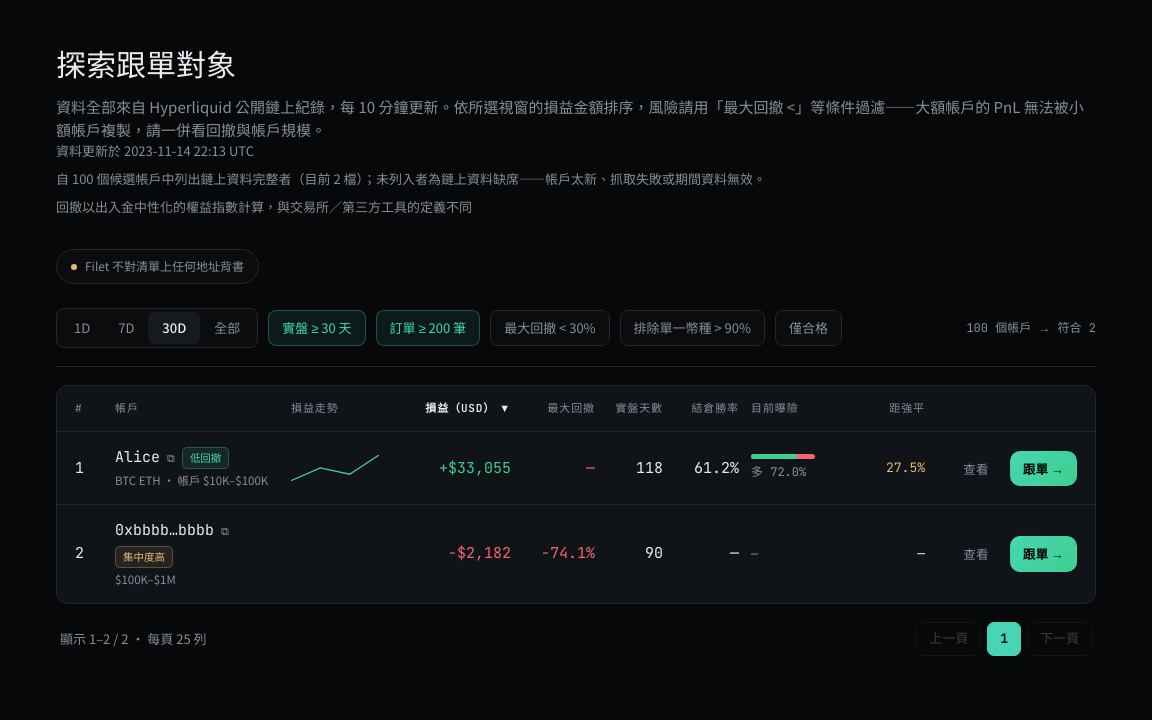
Test: ExplorePage — Task 12 表頭排序（D13） › 點「最大回撤」表頭兩次：第一次 sort=max_dd&order=desc&page=1，第二次 order=asc
Expected: the link "Alice" is shown, [115,446,160,470]
Click the button "最大回撤".
click(571, 409)  # box [548,400,595,417]
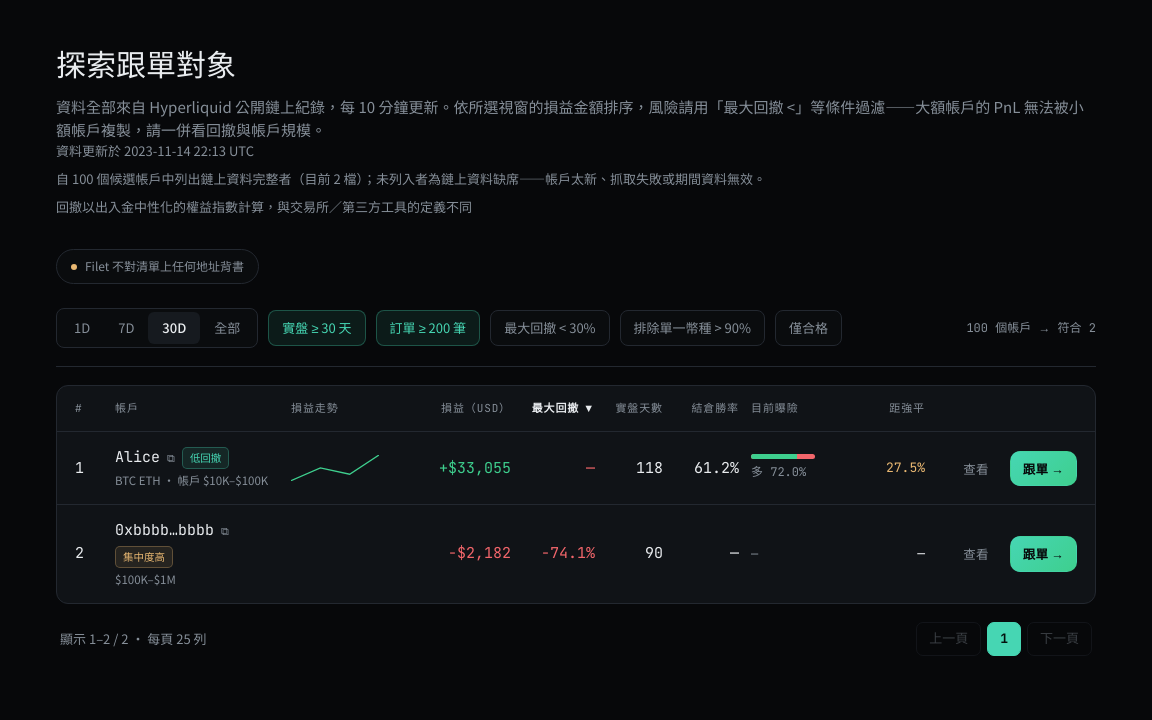
Expected: the button "最大回撤 ▼" is shown
Click the button "最大回撤 ▼".
click(563, 409)  # box [532,400,595,417]
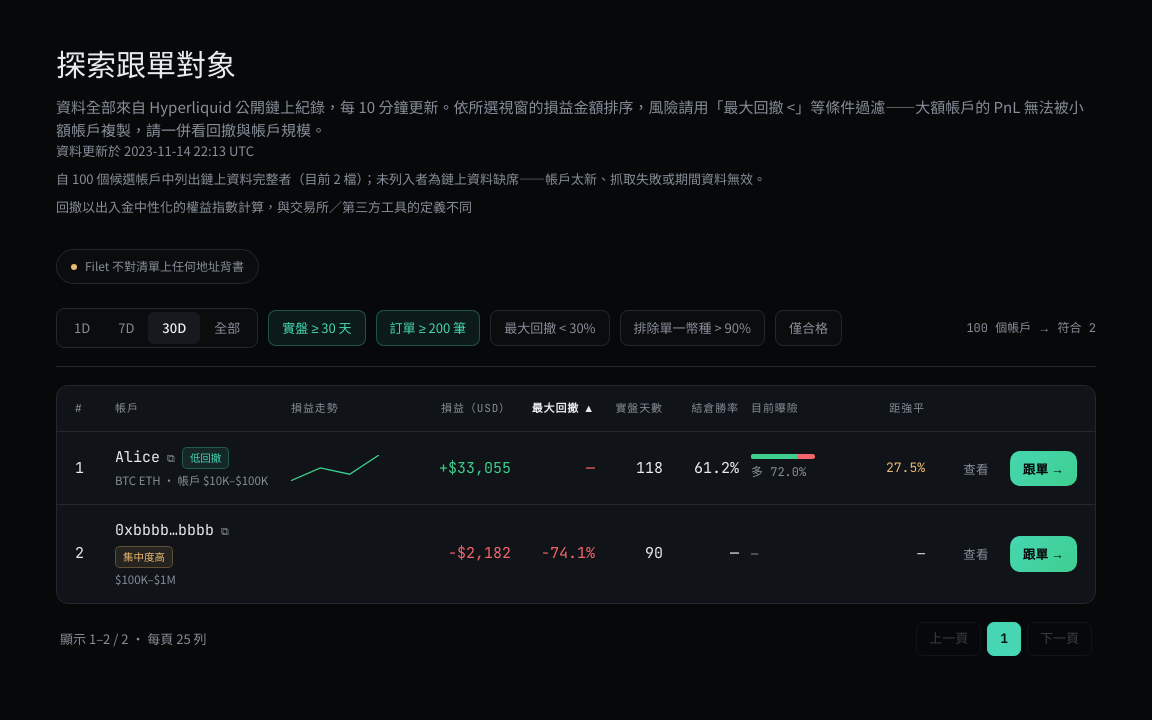
Expected: the button "最大回撤 ▲" is shown, [532,400,595,417]
